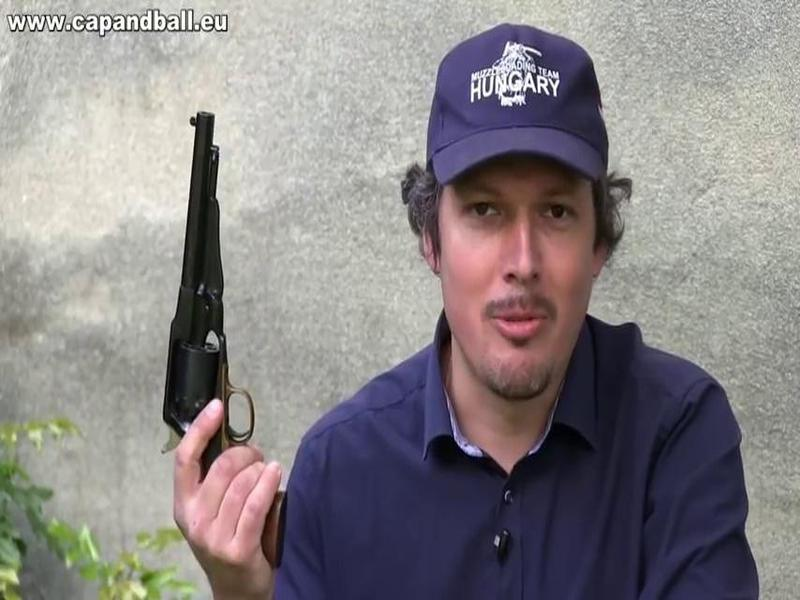Revolver: (131, 90, 321, 573)
